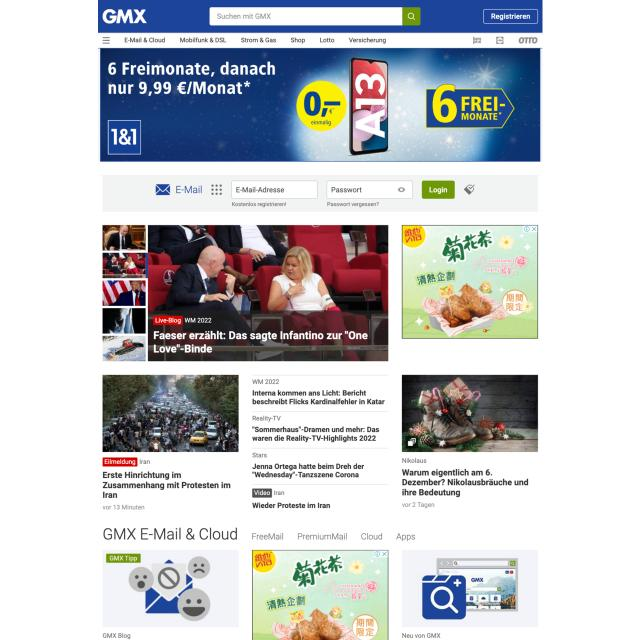input: (209, 7, 422, 26), (326, 180, 414, 199), (232, 180, 318, 199)
logo: (102, 7, 149, 25)
navigation: (122, 36, 388, 46), (251, 530, 418, 544), (99, 34, 112, 45)
